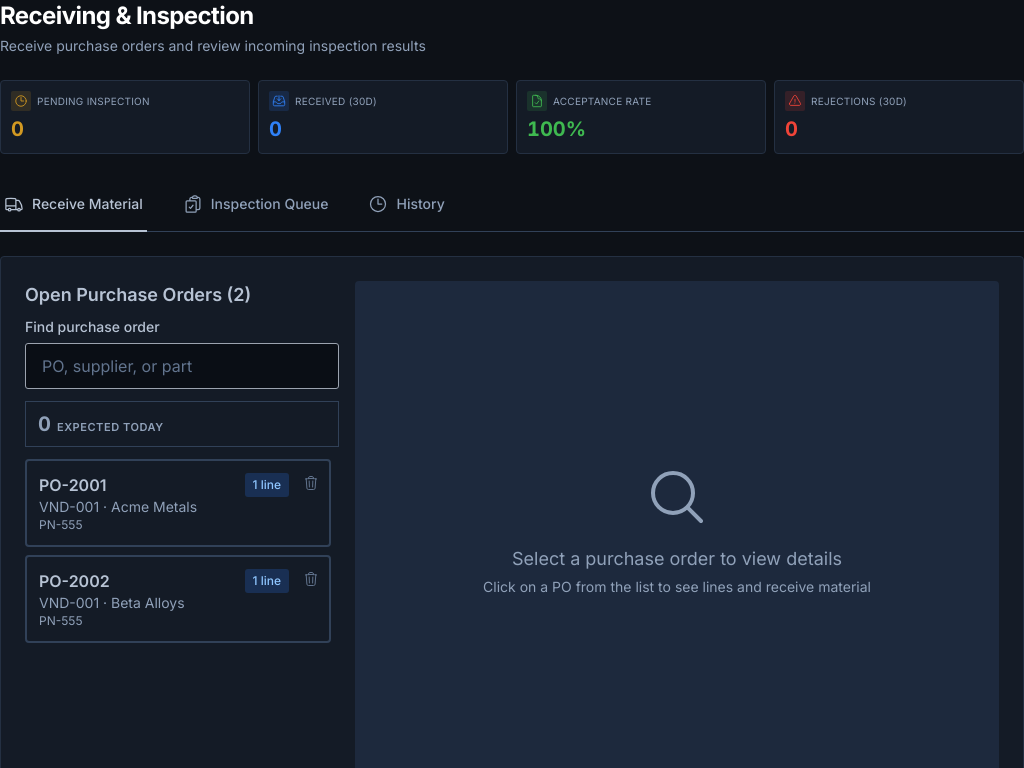
Scenario: Receiving — deleting an open PO › does not select the PO — the receive panel is untouched while the dialog is up
The width and height of the screenshot is (1024, 768).
Expected: the text "PO-2001" is shown, left=39, top=475, right=106, bottom=495
Click the button named "Delete purchase order PO-2001" at (311, 483), box left=297, top=469, right=325, bottom=497
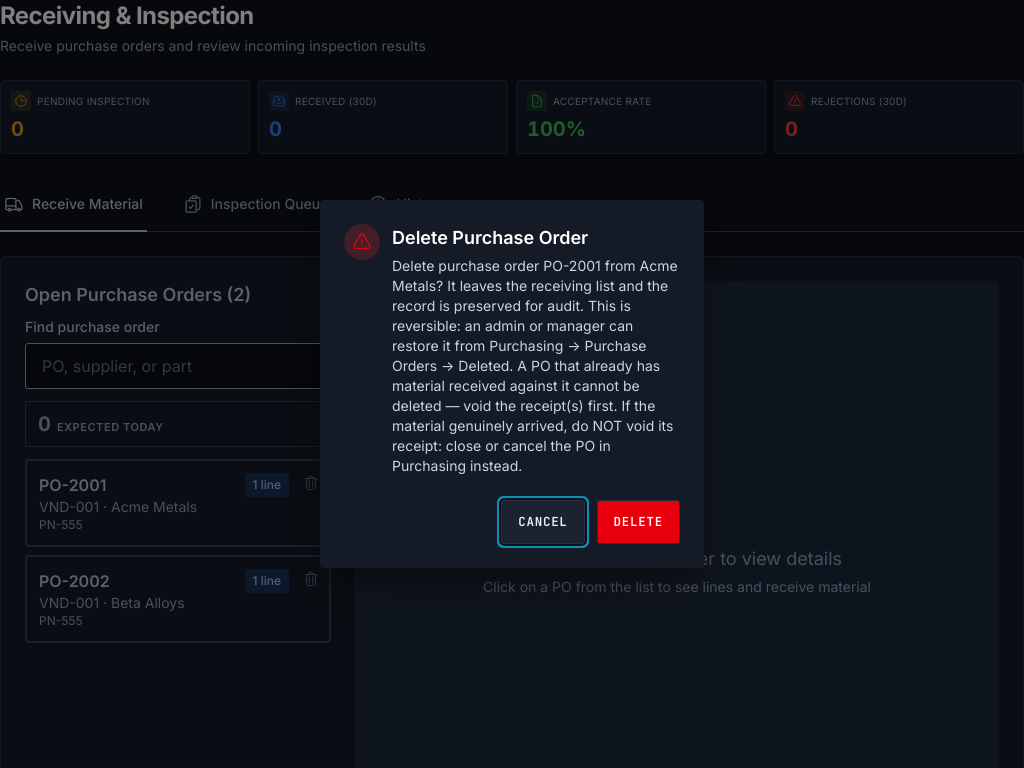
Now the text "Delete purchase order PO-2001 from Acme Metals?" shows "this is reversible", box left=392, top=257, right=678, bottom=474
Now the text "Delete purchase order PO-2001 from Acme Metals?" shows "an admin or manager can restore it", box left=392, top=257, right=678, bottom=474
Now the text "Delete purchase order PO-2001 from Acme Metals?" shows "Purchasing → Purchase Orders → Deleted", box left=392, top=257, right=678, bottom=474
